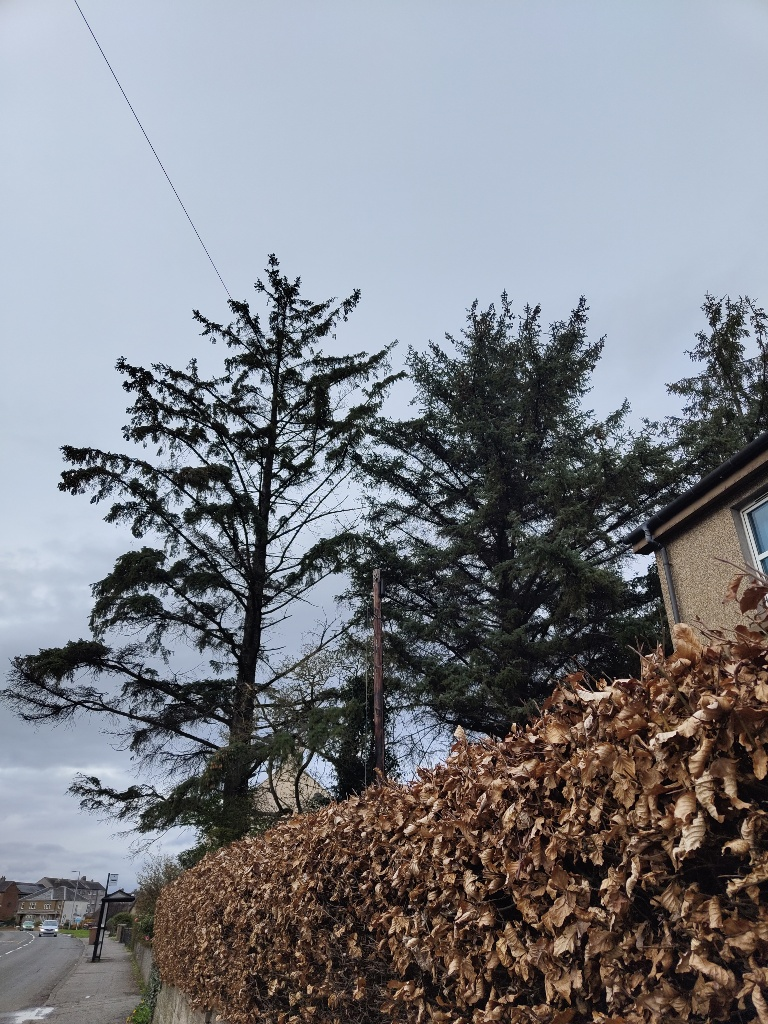Tree: (0, 249, 435, 841), (331, 288, 663, 743)
